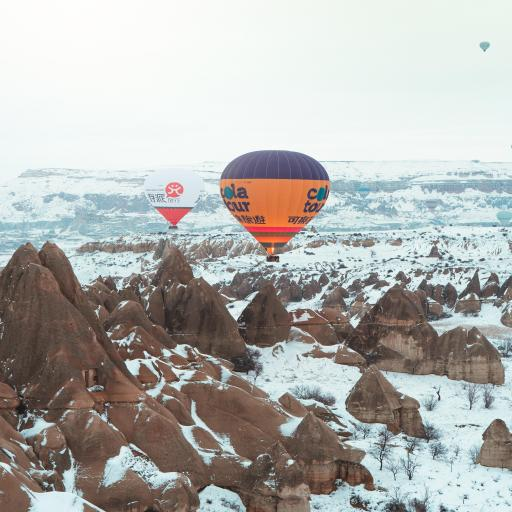hot air ballon: (218, 150, 330, 262), (143, 168, 205, 229), (480, 41, 490, 52)
